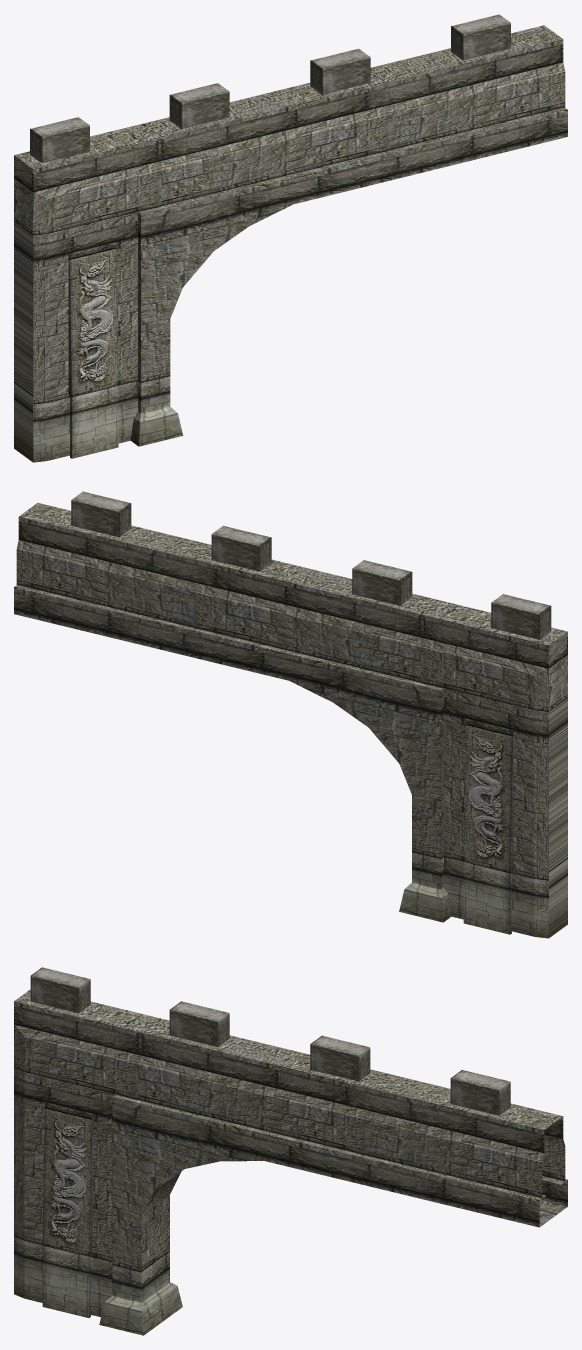
File: ob-bigdam-01.fbx
3 renders of one model, top to bottom at view 1: azimuth 30°, elevation 25°; view 2: azimuth 150°, elevation 25°; view 3: azimuth 330°, elevation 25°, orthographic.
Parts seen in each view (by area): view 1: ob-bigdam-01, ob-bigdam-02; view 2: ob-bigdam-01, ob-bigdam-02; view 3: ob-bigdam-01, ob-bigdam-02.
Part boxes in pixels (x1,y1,x2,y2): ob-bigdam-01: (14, 14, 565, 462); ob-bigdam-02: (68, 108, 567, 458); ob-bigdam-01: (16, 491, 567, 938); ob-bigdam-02: (14, 585, 513, 934); ob-bigdam-01: (14, 967, 565, 1317); ob-bigdam-02: (42, 1095, 567, 1335).
Size of the model in its own units: 11.31 by 6.51 by 1.45.
